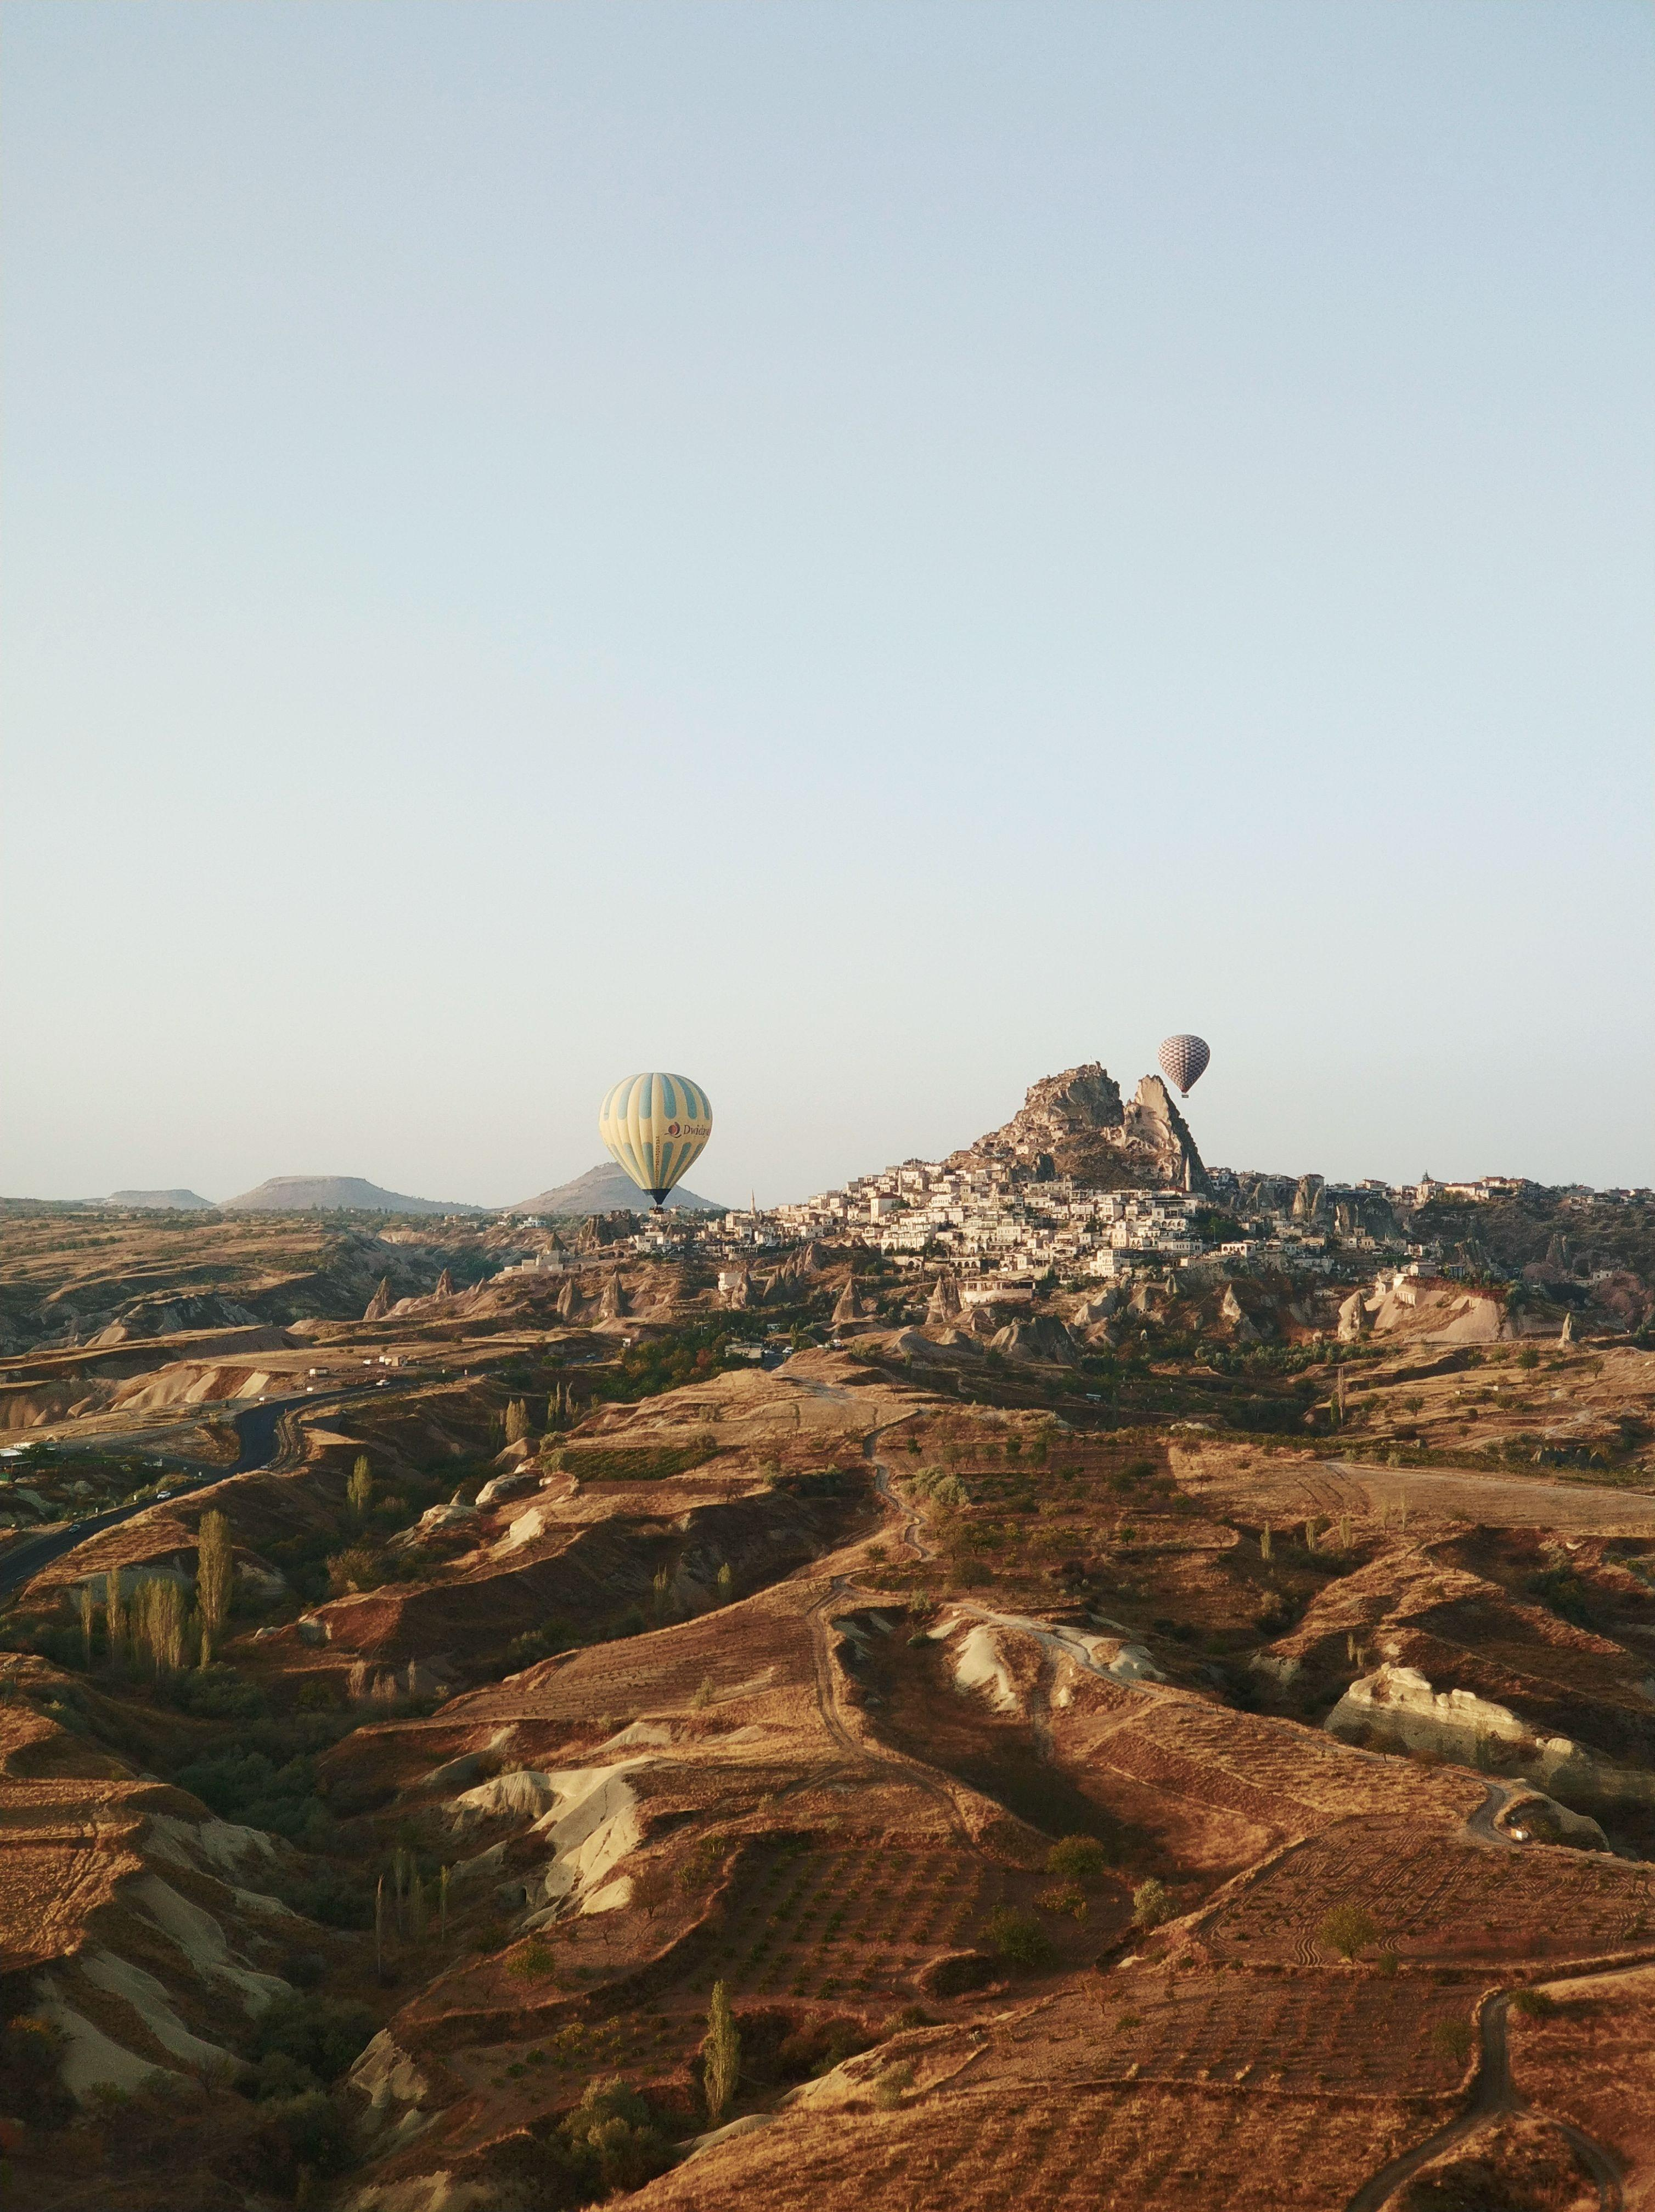hot air ballon: (598, 1072, 715, 1215), (1158, 1034, 1210, 1098)
